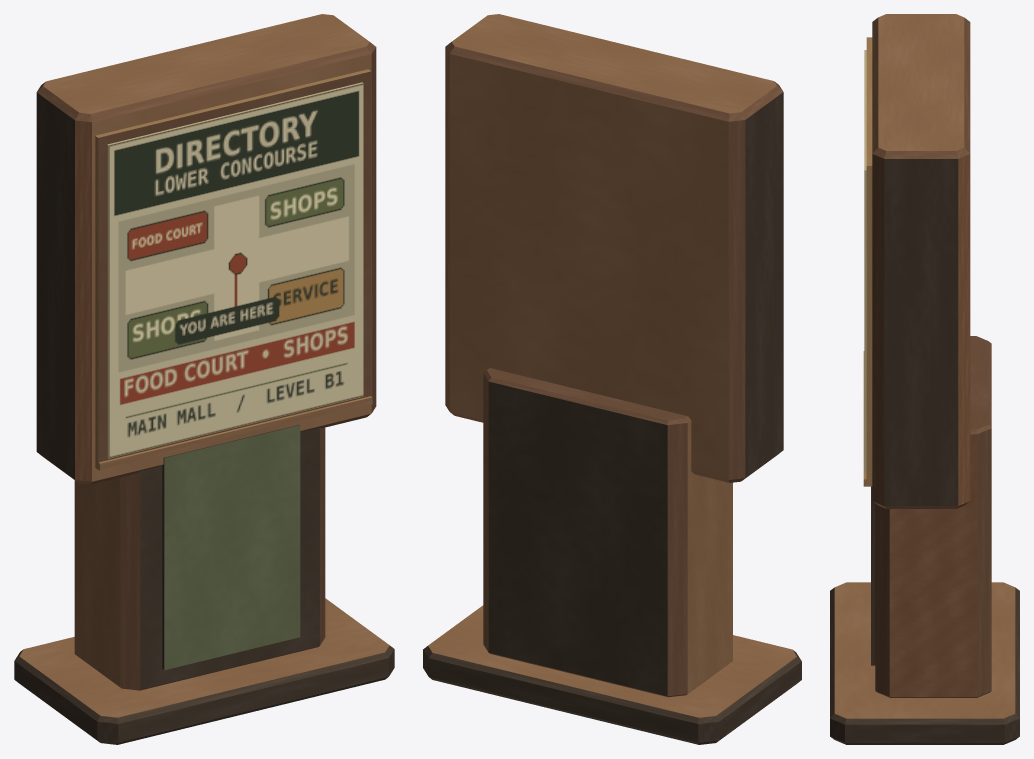
The model's file is print_directory_kiosk.glb.
3 views of the same model, side by side, from view 1: azimuth 30°, elevation 25°; view 2: azimuth 150°, elevation 25°; view 3: azimuth 270°, elevation 25° (orthographic). The views are drawn at different scales.
Visible parts, largest first — view 1: Printed Mall Directory; view 2: Printed Mall Directory; view 3: Printed Mall Directory.
Boxes of the visible parts, bbox=[...] form: Printed Mall Directory: bbox=[14, 14, 394, 744]; Printed Mall Directory: bbox=[423, 14, 801, 744]; Printed Mall Directory: bbox=[830, 14, 1019, 744].
Size of the model in its own units: 0.902 by 1.76 by 0.51.
1 material, 1 textured.
